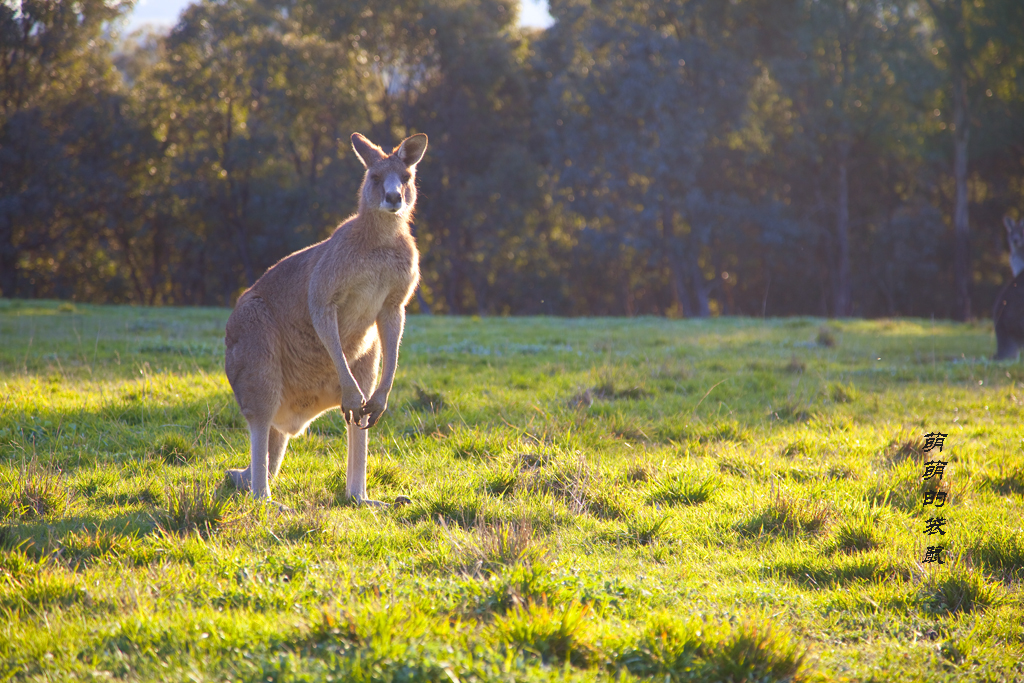kangaroo: (188, 130, 444, 511)
